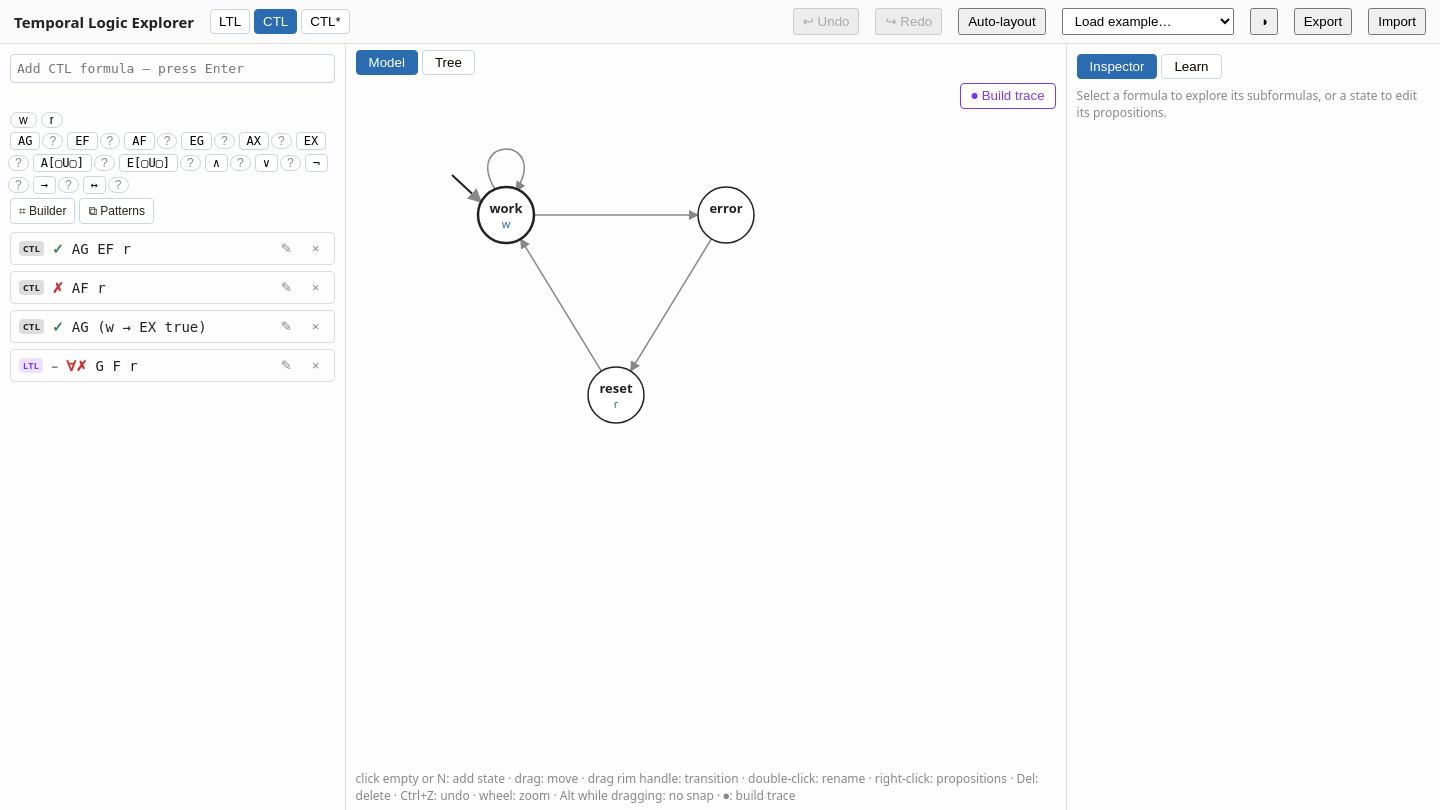
Test: Composer › insertion adds a space before a following identifier
The width and height of the screenshot is (1440, 810).
Type "p" into the text box with placeholder "Add CTL formula — press Enter" at point(172, 68), box [10,54,335,83]
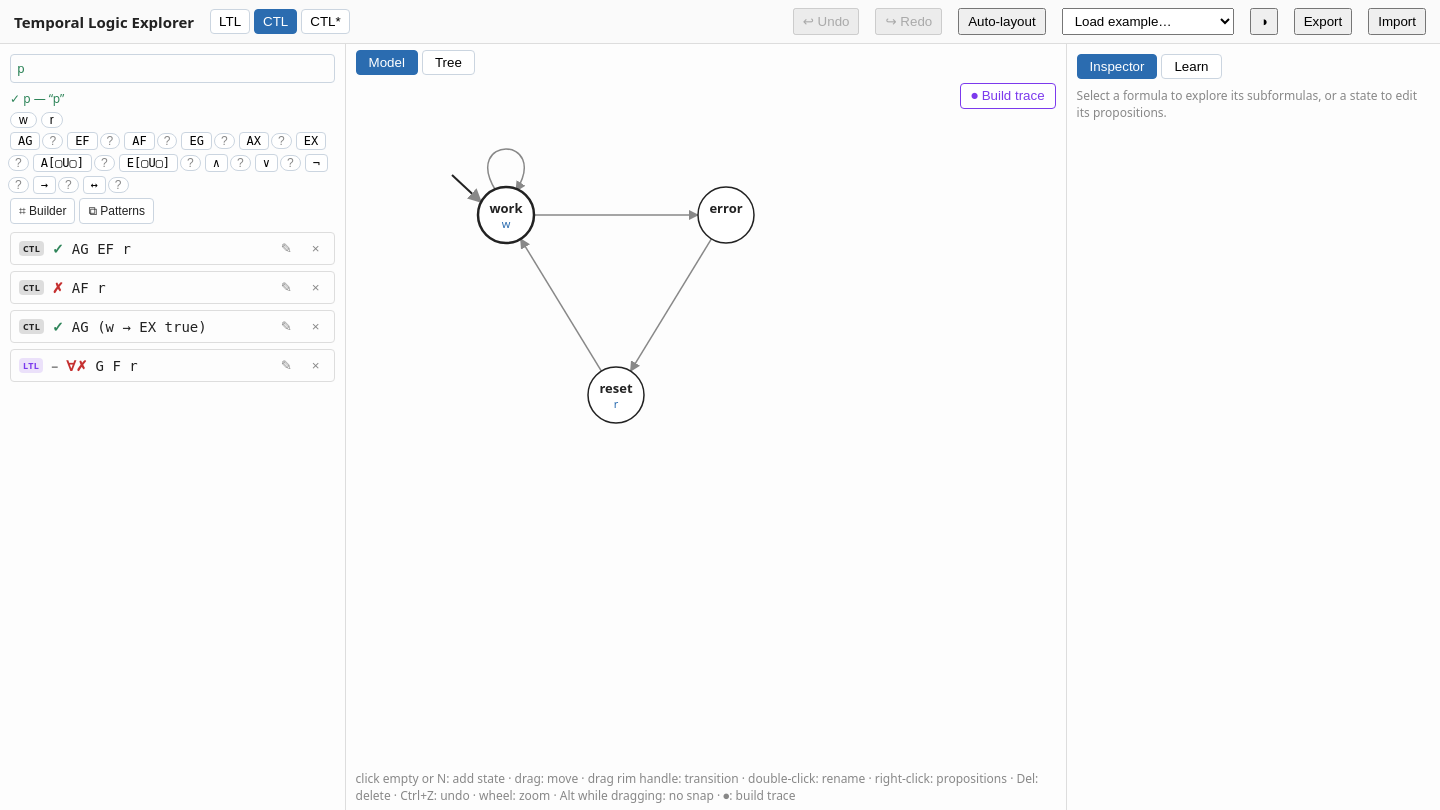
Click the button "r" at point(52, 120), box [41,112,63,128]
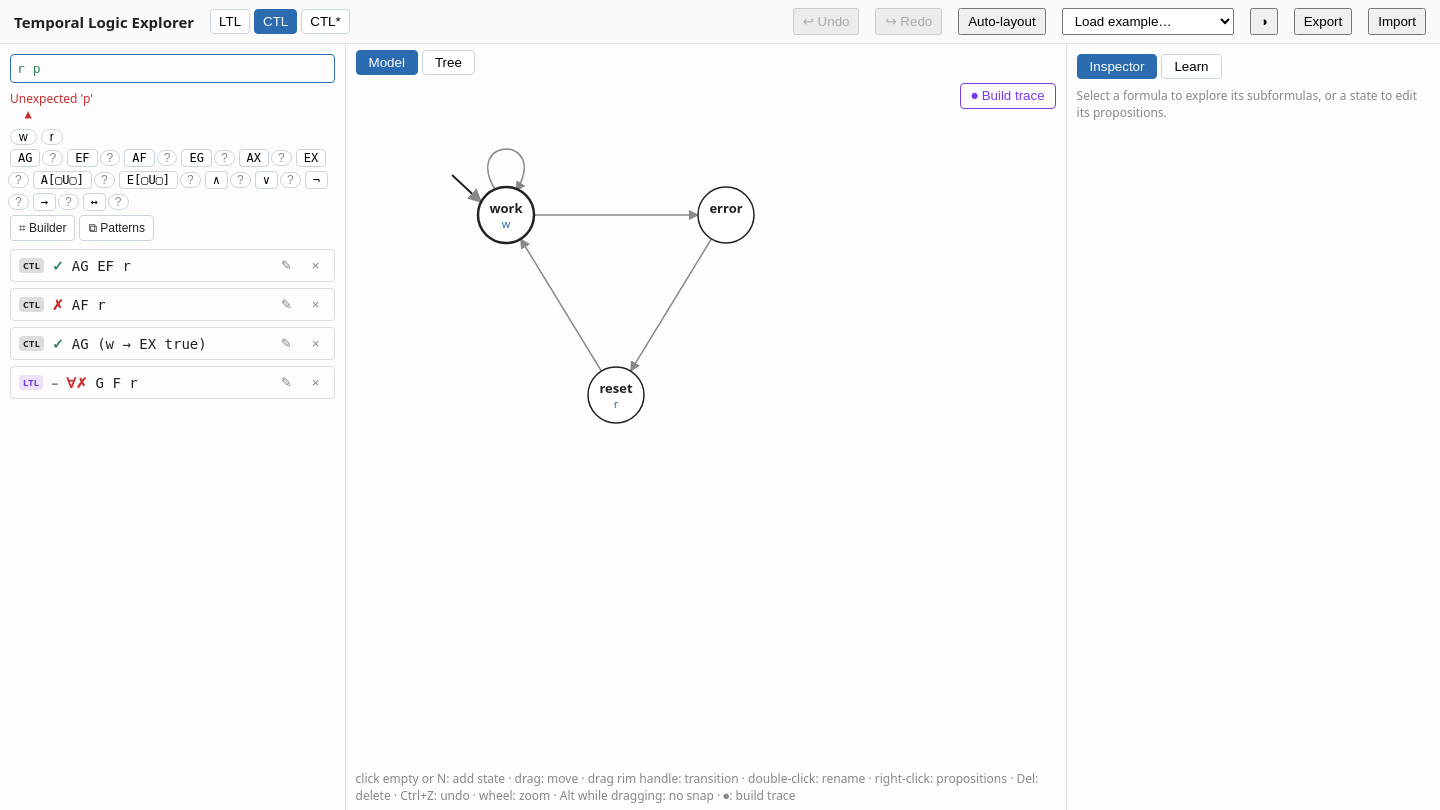
Check: the text box with placeholder "Add CTL formula — press Enter" holds "r p", box [10,54,335,83]
